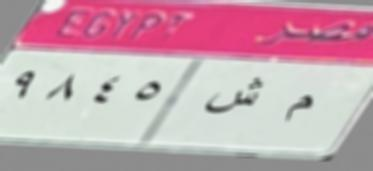4: (89, 74, 120, 108)
5: (134, 78, 164, 106)
8: (45, 72, 78, 111)
9: (9, 65, 36, 109)
meem: (280, 88, 316, 132)
sheen: (206, 73, 264, 121)
